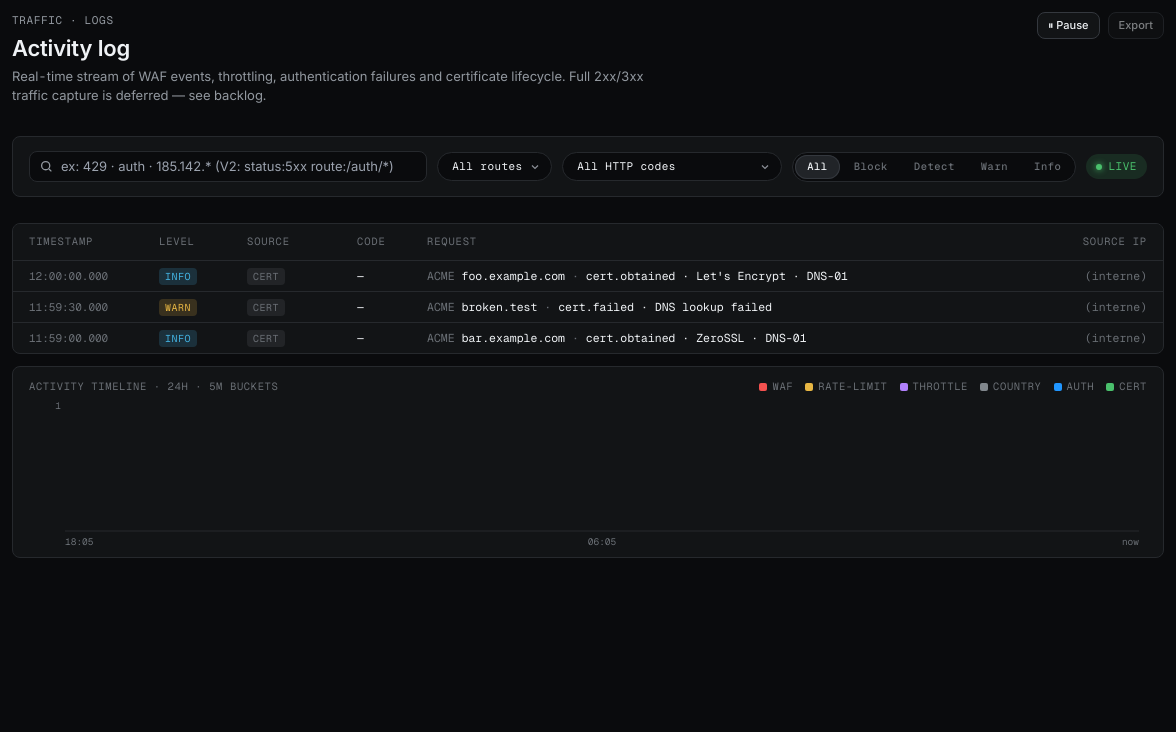
Test: /logs — search across cert content › search by issuer "ZeroSSL" matches the ZeroSSL-issued row
In the search field named "Filter events": (239, 167) [61,157,416,176], type "ZeroSSL"
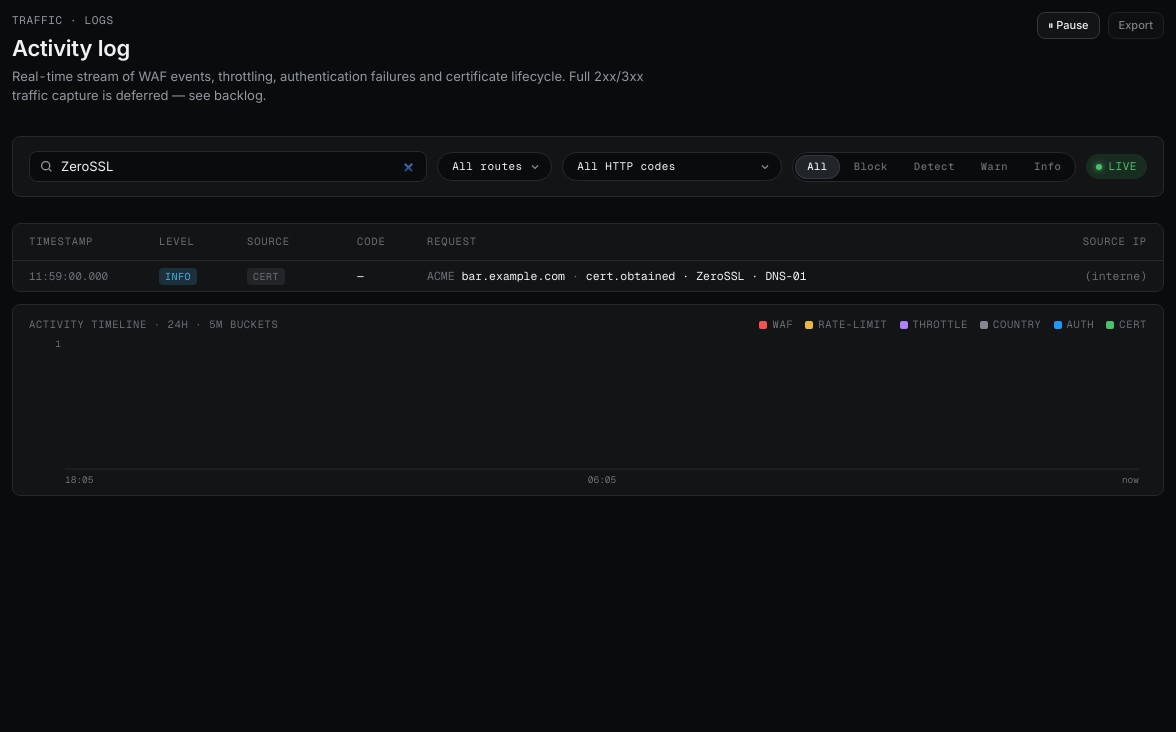
Expected: the text "ACME bar.example.com · cert.obtained · ZeroSSL · DNS-01" is shown, [427,268,806,283]
Expected: the text "foo.example.com" is gone
